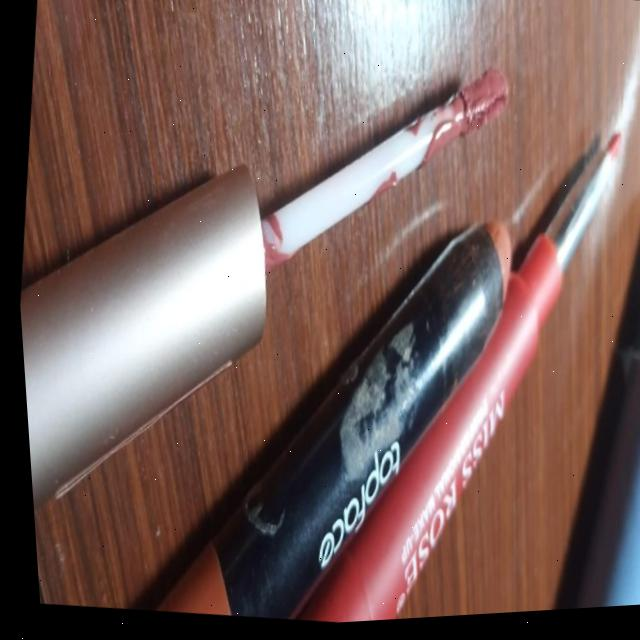brush: (0, 0, 566, 640)
lip liner: (301, 95, 640, 626)
